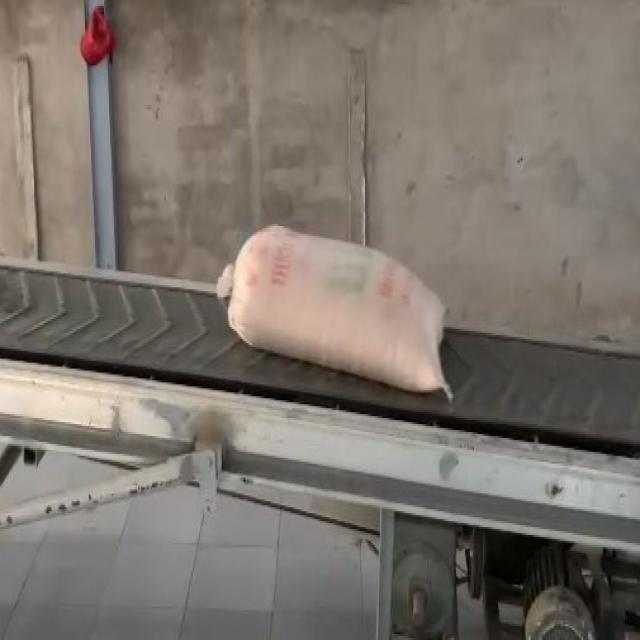gunny_bag: (228, 226, 451, 393)
